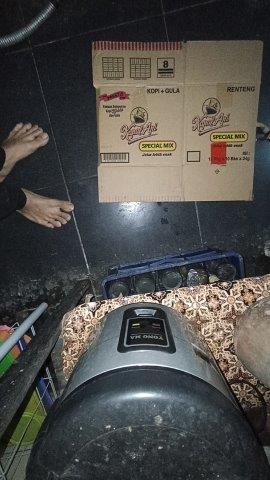kardus: (93, 42, 262, 201)
